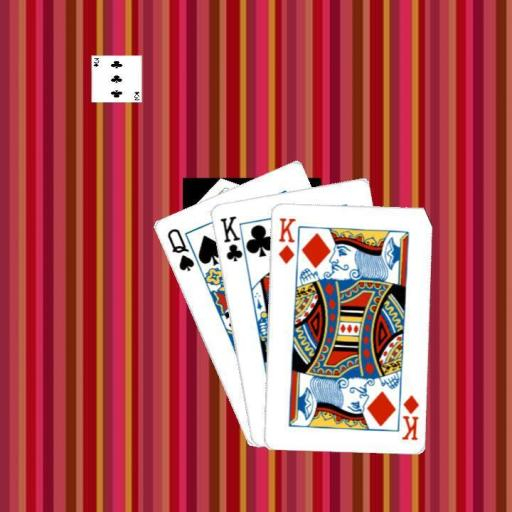card-corner: (217, 213, 249, 266), (164, 225, 196, 273), (275, 214, 297, 265), (398, 392, 420, 442)
